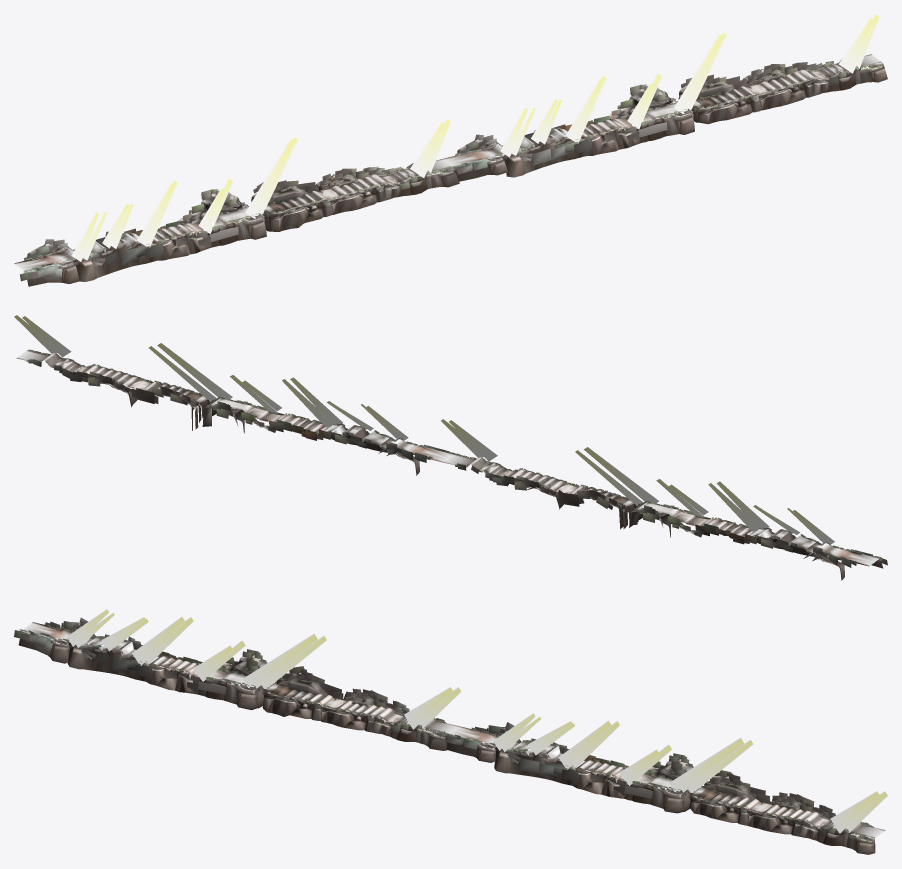
File: Forest_07.fbx
3 renders of one model, top to bottom at view 1: azimuth 30°, elevation 25°; view 2: azimuth 150°, elevation 25°; view 3: azimuth 330°, elevation 25°, orthographic.
Visible parts, largest first — view 1: Mountain_01, Tree_01, Light_01, Ground_01; view 2: Tree_01, Light_01, Ground_01, Mountain_01; view 3: Mountain_01, Light_01, Tree_01, Ground_01.
Part boxes in pixels (left/top/right/bottom): Mountain_01: left=24, top=62, right=887, bottom=286; Tree_01: left=19, top=61, right=882, bottom=281; Light_01: left=71, top=14, right=879, bottom=261; Ground_01: left=14, top=54, right=881, bottom=270; Tree_01: left=28, top=349, right=887, bottom=567; Light_01: left=14, top=315, right=834, bottom=544; Ground_01: left=16, top=350, right=879, bottom=566; Mountain_01: left=26, top=350, right=883, bottom=580; Mountain_01: left=18, top=622, right=875, bottom=854; Light_01: left=67, top=609, right=887, bottom=833; Tree_01: left=14, top=617, right=874, bottom=842; Ground_01: left=22, top=622, right=885, bottom=838.
Bounding box in the file's own units: 68431 × 5821 × 4381.
